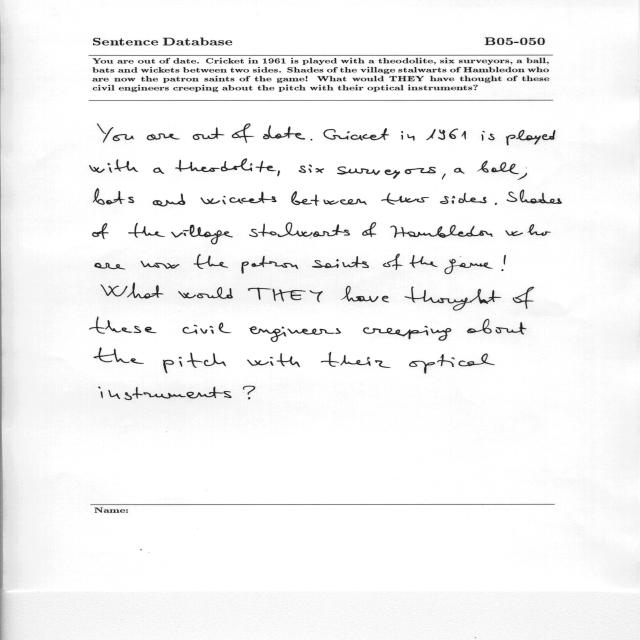word: (405, 287, 501, 311), (99, 386, 232, 400), (409, 354, 495, 374), (249, 223, 350, 238), (249, 326, 341, 342), (390, 225, 493, 238), (163, 353, 226, 374), (363, 326, 451, 341), (175, 159, 276, 172), (337, 166, 436, 179), (171, 225, 233, 244), (291, 191, 367, 206), (90, 317, 157, 334), (248, 288, 323, 303), (321, 352, 391, 368), (477, 160, 527, 180), (101, 283, 163, 299), (201, 192, 277, 205), (242, 256, 299, 273), (467, 319, 526, 334), (507, 189, 562, 204), (341, 286, 389, 303), (94, 348, 144, 364), (324, 128, 389, 140), (426, 128, 485, 141), (506, 130, 556, 145), (247, 354, 300, 368), (444, 259, 493, 274), (97, 124, 134, 143), (93, 188, 134, 205), (89, 159, 138, 173), (312, 256, 369, 268), (178, 287, 233, 299), (263, 125, 305, 140), (382, 193, 430, 205), (128, 223, 165, 238), (505, 224, 551, 236), (183, 323, 232, 334), (194, 254, 228, 269), (440, 193, 486, 204), (513, 287, 534, 309), (153, 194, 186, 207), (232, 124, 254, 143), (193, 127, 225, 140), (410, 255, 438, 268), (383, 254, 403, 270), (141, 261, 179, 269), (92, 223, 109, 239), (147, 134, 180, 141), (362, 223, 376, 238), (299, 165, 324, 173), (95, 263, 125, 269), (243, 386, 255, 399), (401, 131, 415, 141), (501, 255, 506, 271), (153, 167, 164, 174), (454, 168, 465, 174), (488, 134, 495, 140), (442, 174, 446, 180), (277, 171, 280, 177), (311, 139, 313, 141), (495, 203, 497, 205), (526, 168, 527, 168)
